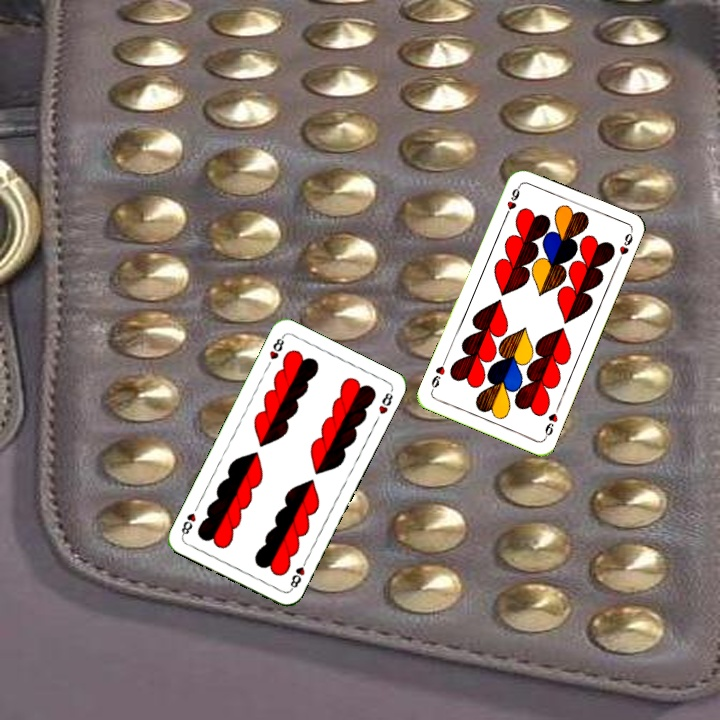H8: (286, 555, 310, 593), (265, 332, 287, 362)
H9: (540, 402, 562, 441), (501, 182, 523, 221)
